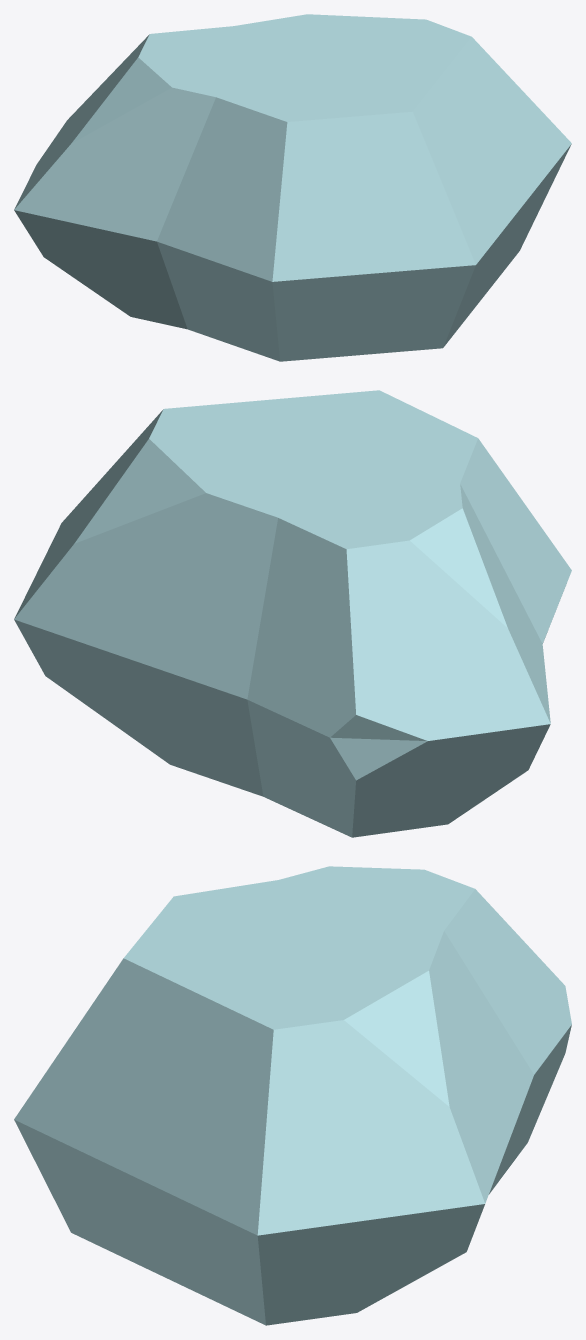
Rendered from stone_largeF.dae.
3 views of the same model, one above another, from view 1: azimuth 30°, elevation 25°; view 2: azimuth 150°, elevation 25°; view 3: azimuth 270°, elevation 25° (orthographic). The views are drawn at different scales.
Parts seen in each view (by area): view 1: stone_largeF; view 2: stone_largeF; view 3: stone_largeF.
Boxes of the visible parts, left/top/right/bottom form: stone_largeF: left=14, top=14, right=571, bottom=361; stone_largeF: left=14, top=390, right=571, bottom=837; stone_largeF: left=14, top=866, right=571, bottom=1325.
Bounding box in the file's own units: 1.1 × 0.479 × 0.899.
